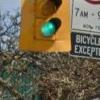traffic lights: (33, 0, 63, 46)
